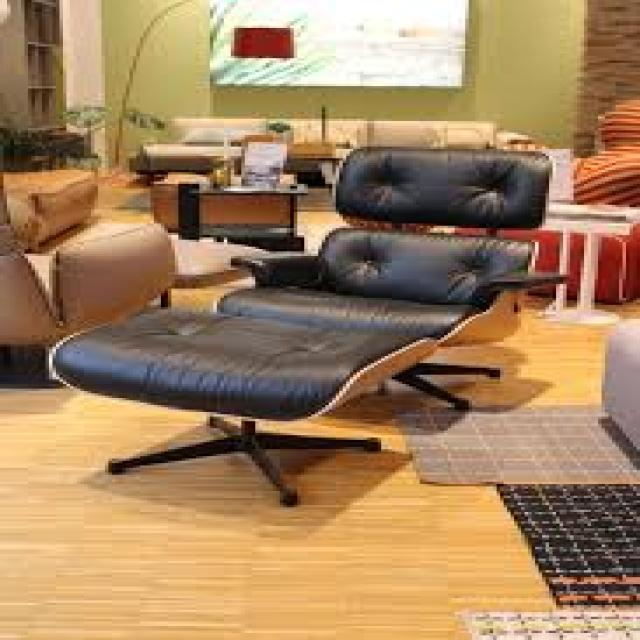chair: (38, 102, 575, 537)
